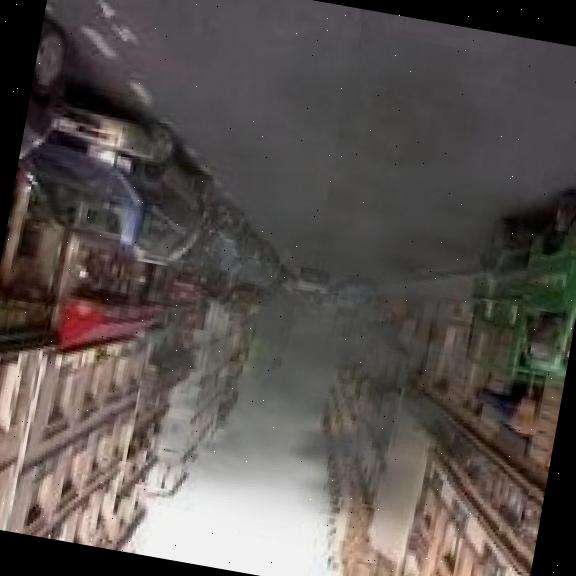smoke: (3, 0, 576, 576)
